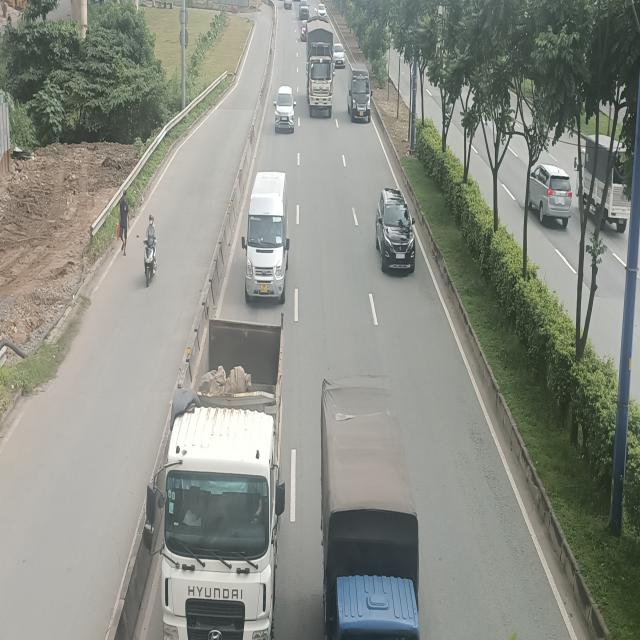car: (375, 188, 417, 274), (273, 84, 296, 134), (333, 43, 346, 66)
container: (143, 313, 286, 639)
truck: (319, 381, 421, 640), (306, 17, 335, 118)
van: (241, 171, 290, 302), (347, 64, 372, 121)
